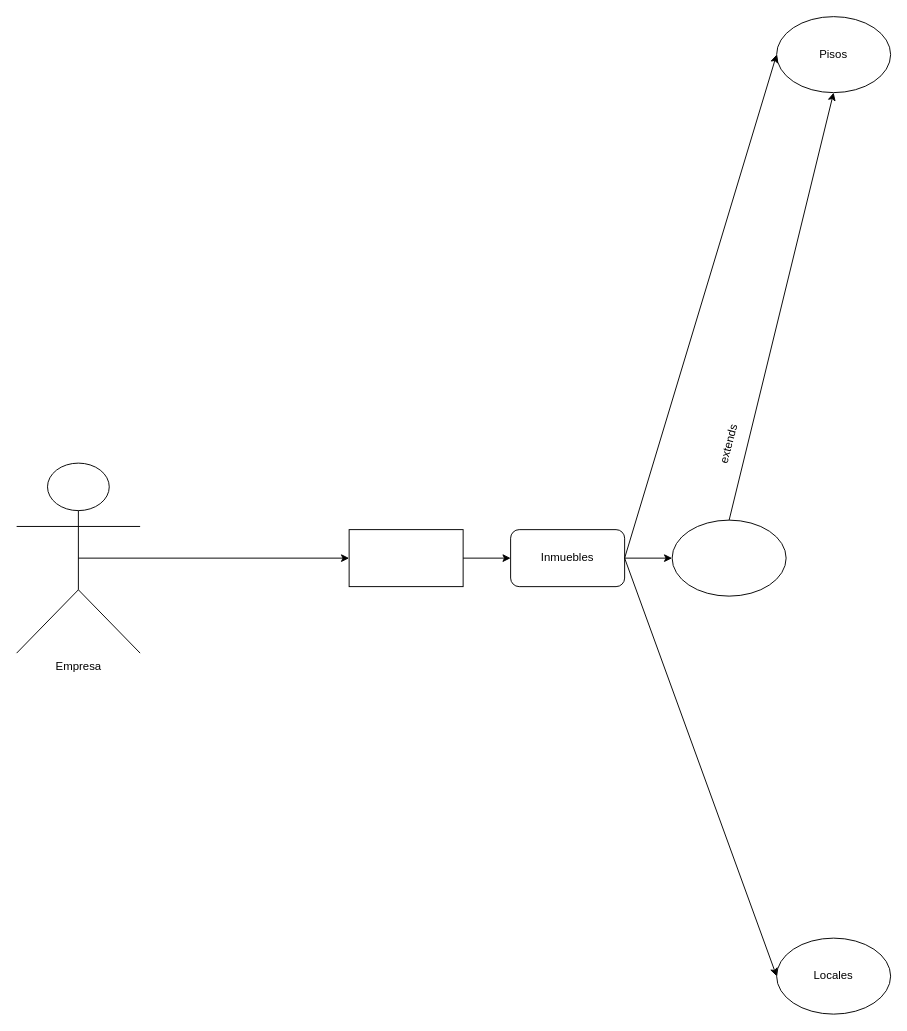
The diagram is 907 pixels wide and 1031 high, and some of its shapes have lost their labels. The centre of each missing label's shape, as x and y in pixels:
Edificios: point (728, 557)
Gestionar: point (405, 558)
